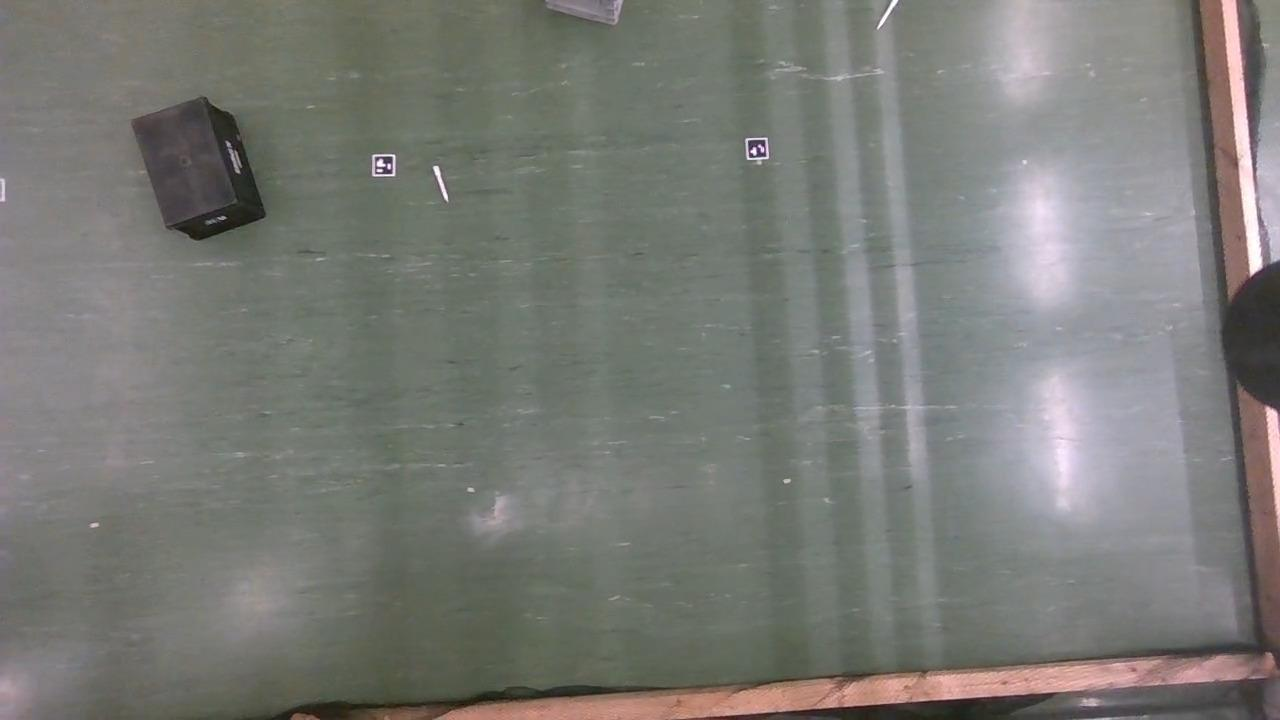probes: (878, 0, 898, 28), (435, 168, 449, 203)
rako: (131, 99, 265, 244), (541, 2, 630, 26)
